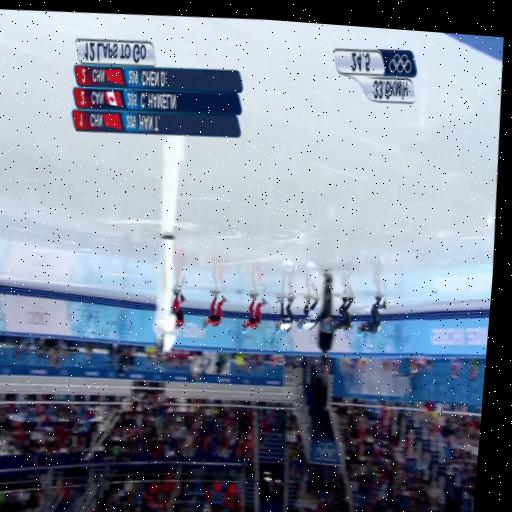Skater: (357, 296, 388, 335), (241, 294, 267, 332), (202, 291, 227, 328), (297, 296, 319, 329), (275, 296, 294, 331), (333, 297, 353, 330), (173, 289, 185, 328)
